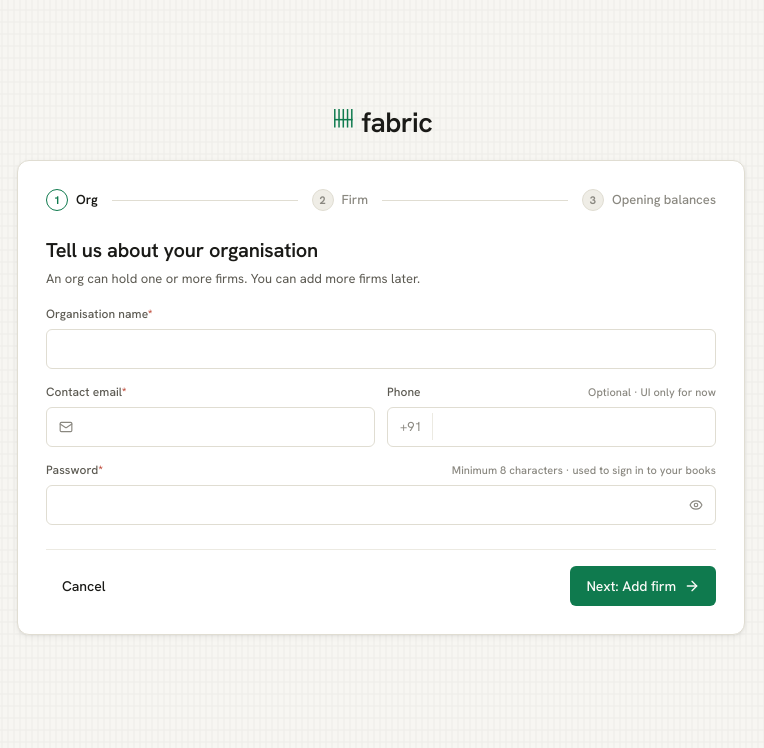
Onboarding wizard — local state machine › advances to step 2 (Add your first firm) when Next is clicked
Step 1. Click the button "Next: Add firm" → point(643, 586), box top-left (570, 566), bottom-right (716, 606)
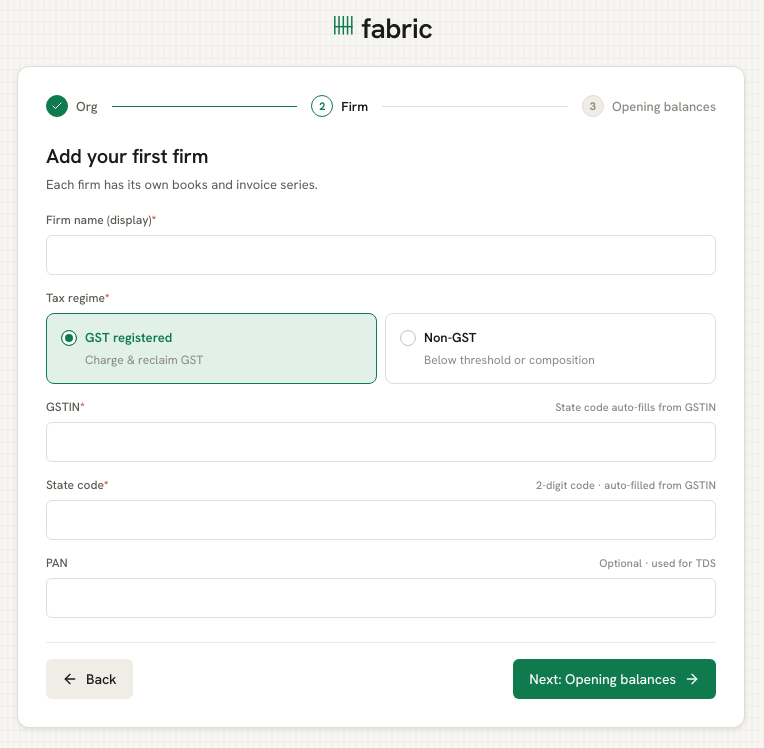
Expected: the heading "Add your first firm" is shown, top-left (46, 143), bottom-right (208, 169)
